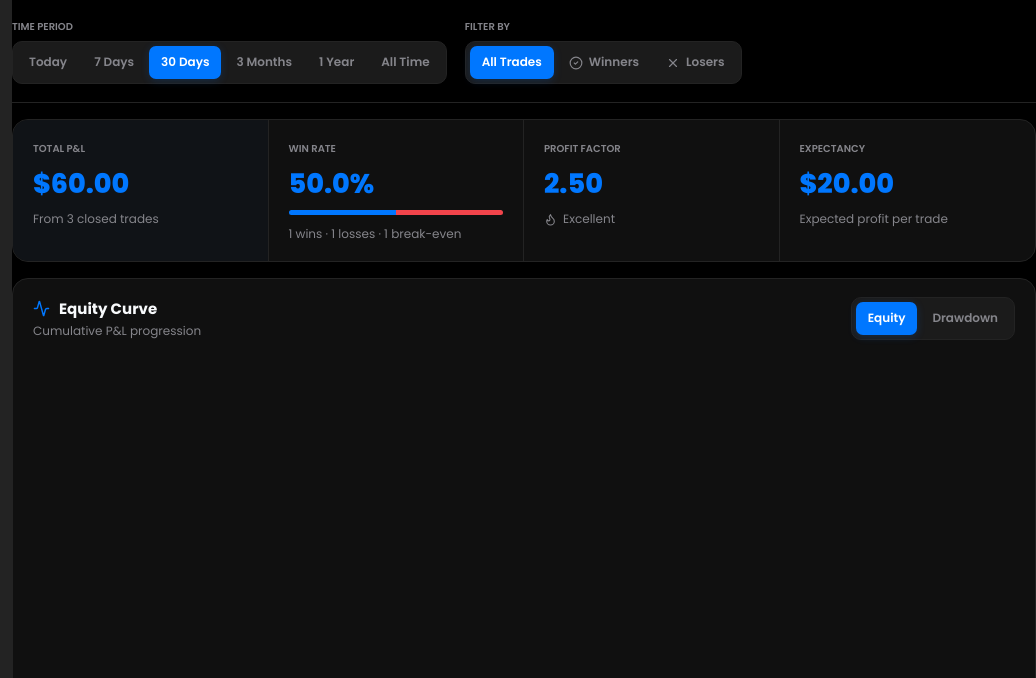
it: Analysis redesign › preserves setup aggregation and updates it with the page filters
The image size is (1036, 678).
Click the button "Winners" at (604, 63), box x1=557 y1=46 x2=651 y2=79
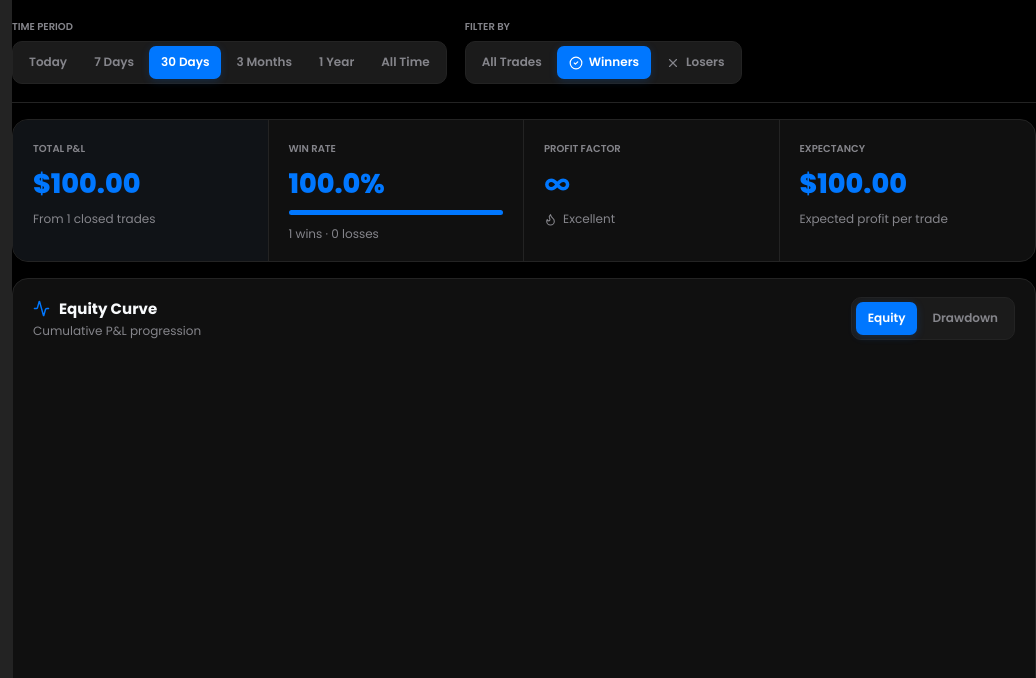
Click the button "Losers" at (695, 63), box x1=654 y1=46 x2=736 y2=79
(page scrolled)
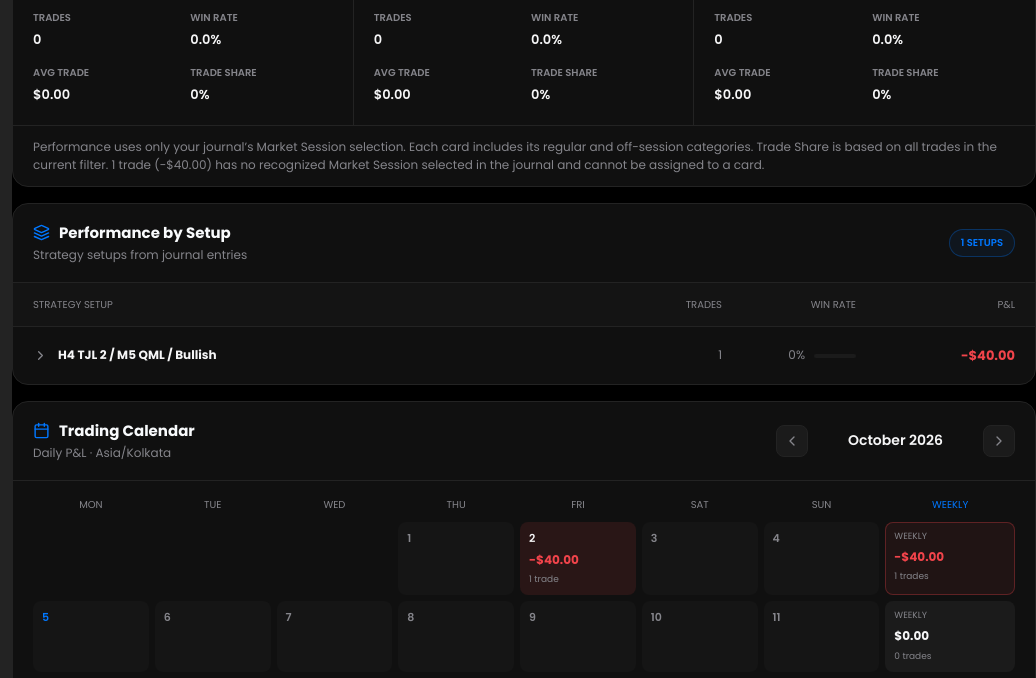
Result: the heading "H4 TJL 2 / M5 QML / Bullish 1 0% -$40.00" is shown at x1=33 y1=346 x2=1015 y2=365
